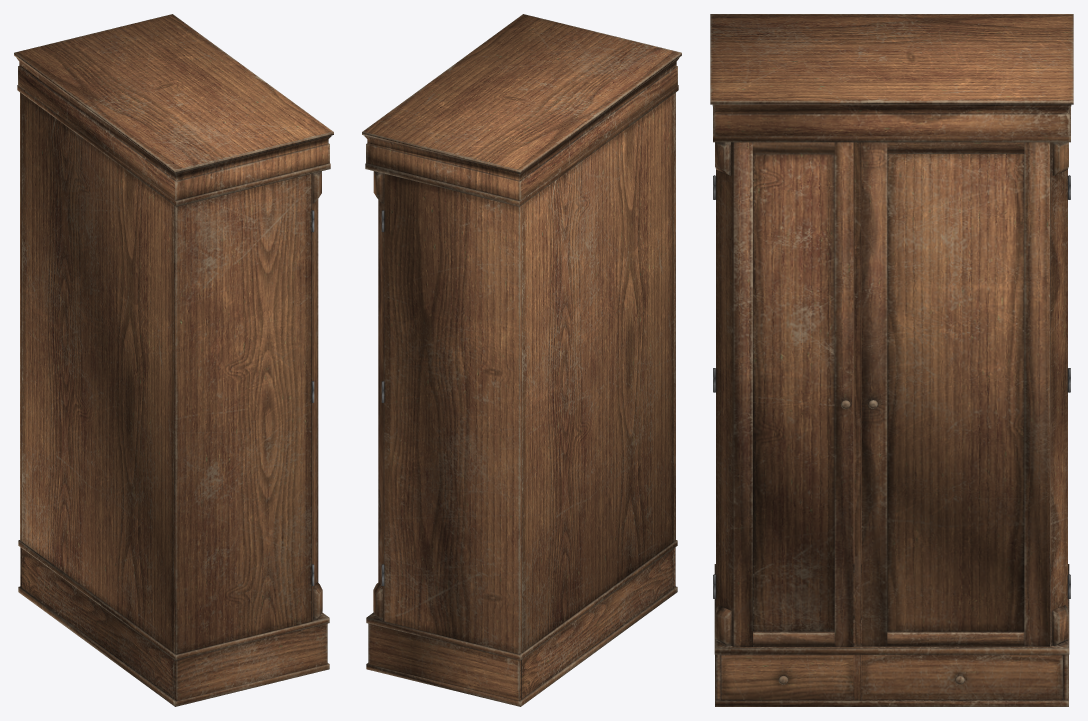
File: soviet_old_wardrobe.glb
The picture shows the model from 3 angles, left to right: view 1: azimuth 30°, elevation 25°; view 2: azimuth 150°, elevation 25°; view 3: azimuth 270°, elevation 25°; orthographic projection. The views are drawn at different scales.
Parts seen in each view (by area): view 1: 15_low, 4_low, 2_low, 9_low, 14_low, 5_low, 8_low, 10_low, 3_low, 18_low, 16_low; view 2: 15_low, 4_low, 2_low, 9_low, 14_low, 5_low, 8_low, 10_low, 3_low, 16_low; view 3: 7_low, 18_low, 2_low, 5_low, 13_low, 17_low, 11_low, 6_low, 8_low, 10_low, 3_low, 16_low (+1 smaller).
Part boxes in pixels (box(x1,y1,x2,y2)): 15_low: box(22, 94, 173, 652); 4_low: box(20, 92, 311, 654); 2_low: box(14, 14, 333, 200); 9_low: box(20, 547, 327, 700); 14_low: box(22, 548, 174, 699); 5_low: box(311, 173, 317, 621); 8_low: box(18, 540, 329, 660); 10_low: box(18, 586, 329, 706); 3_low: box(17, 85, 330, 206); 18_low: box(317, 199, 318, 582); 16_low: box(312, 171, 322, 619); 15_low: box(522, 94, 673, 652); 4_low: box(384, 92, 675, 654); 2_low: box(362, 14, 681, 200); 9_low: box(368, 547, 675, 700); 14_low: box(521, 548, 673, 699); 5_low: box(378, 173, 384, 621); 8_low: box(366, 540, 677, 660); 10_low: box(366, 586, 677, 706); 3_low: box(365, 85, 678, 206); 16_low: box(373, 171, 383, 619); 7_low: box(753, 154, 1024, 631); 18_low: box(733, 142, 1049, 646); 2_low: box(710, 14, 1073, 136); 5_low: box(716, 142, 1067, 646); 13_low: box(861, 654, 1062, 699); 17_low: box(753, 142, 1024, 646); 11_low: box(721, 654, 853, 699); 6_low: box(854, 142, 860, 646); 8_low: box(714, 564, 1069, 654); 10_low: box(715, 617, 1068, 706); 3_low: box(713, 107, 1070, 142); 16_low: box(715, 142, 1068, 645).
Bounding box in the file's own units: 0.6372 × 2.04 × 1.11.
1 material, 1 textured.
